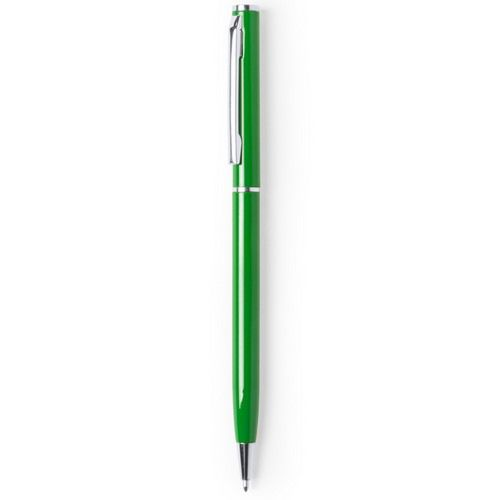Boligrafo: (224, 1, 265, 493)
